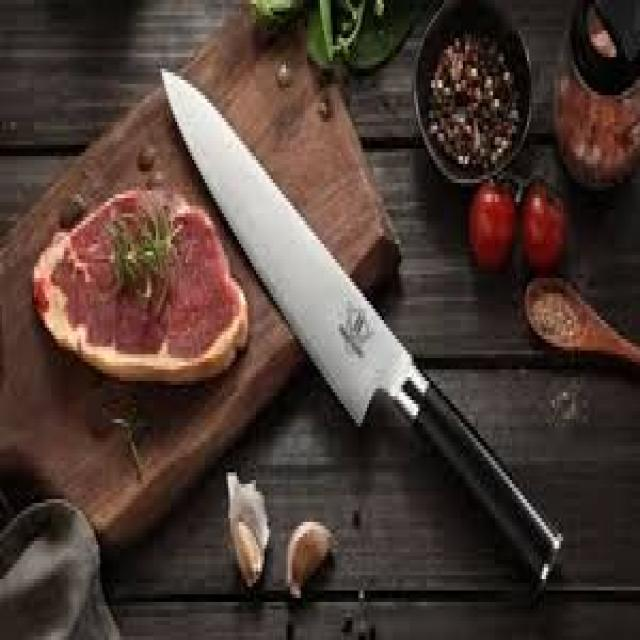Knife: (160, 69, 561, 583)
